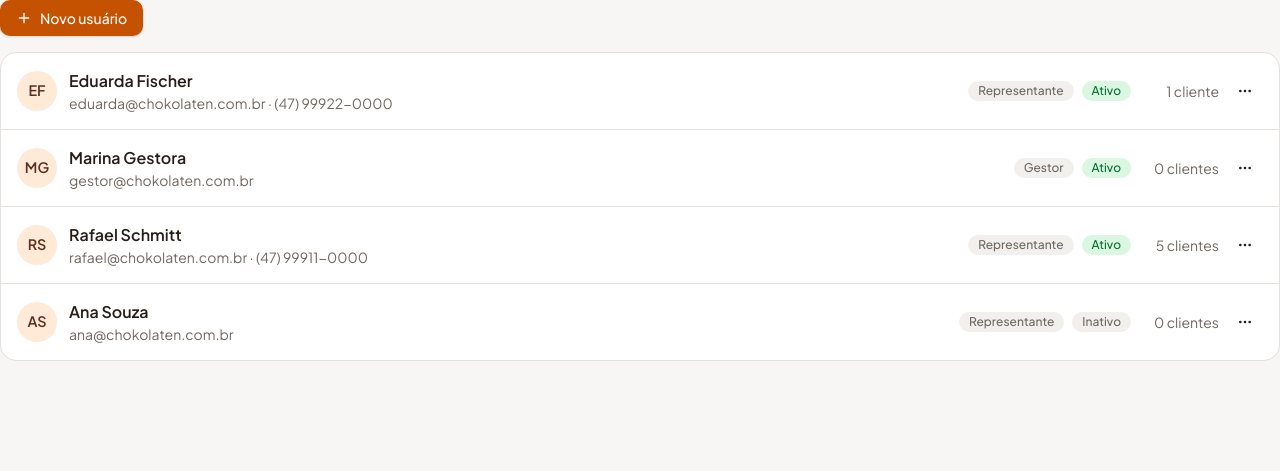
Scenario: UsuariosPage › reativar não pede confirmação
The width and height of the screenshot is (1280, 471).
Step 1. Click the button named "Ações de Ana Souza" → (1245, 322), box [1227,304,1263,340]
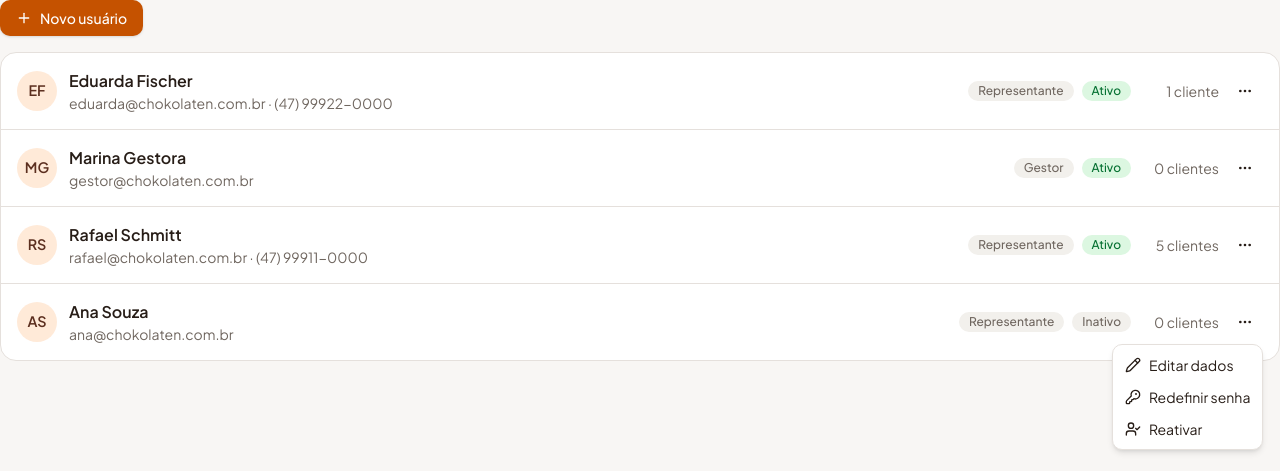
Step 2. Click the menu item "Reativar" → (1164, 429), box [1125,420,1202,438]
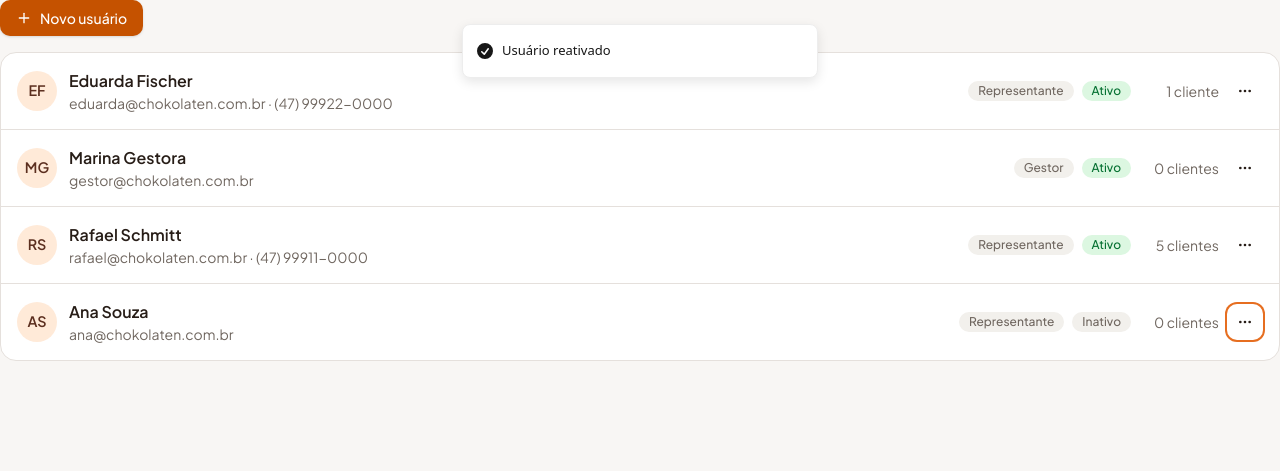
Check: the text "Usuário reativado" is shown, box [502,41,611,60]
